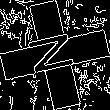N_E: (26, 30, 84, 80)
